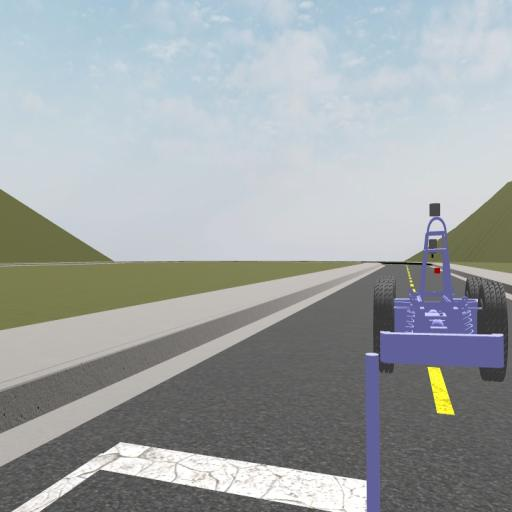ERP-42: (373, 201, 508, 382)
